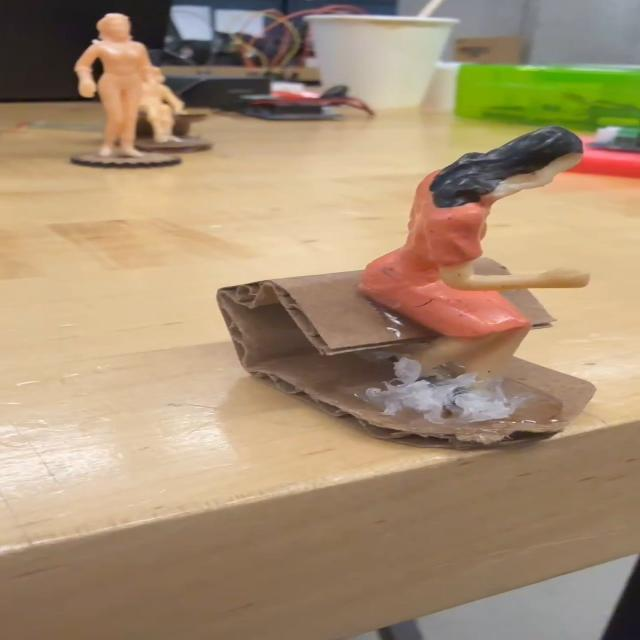Authorized: (353, 126, 590, 424)
